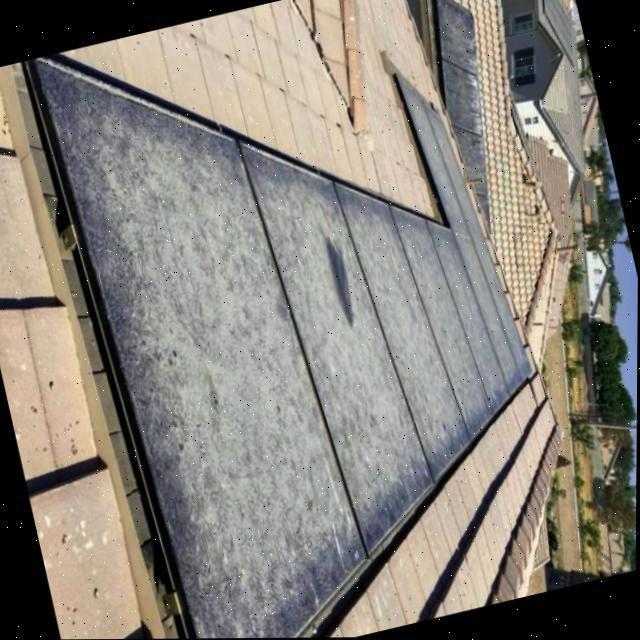Anomaly Solar Panel: (39, 55, 370, 639), (237, 132, 434, 558), (333, 178, 471, 480), (390, 202, 495, 440), (427, 219, 510, 414), (396, 70, 472, 236), (452, 231, 523, 395), (473, 237, 532, 381), (426, 102, 486, 240)
Surface Contaminant: (39, 55, 368, 639), (238, 132, 439, 554), (334, 180, 471, 474), (389, 200, 495, 441), (431, 220, 514, 413), (396, 69, 471, 236), (452, 225, 524, 393), (424, 100, 487, 240), (475, 237, 532, 378)
